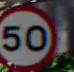Speed limit: (2, 5, 59, 67)
